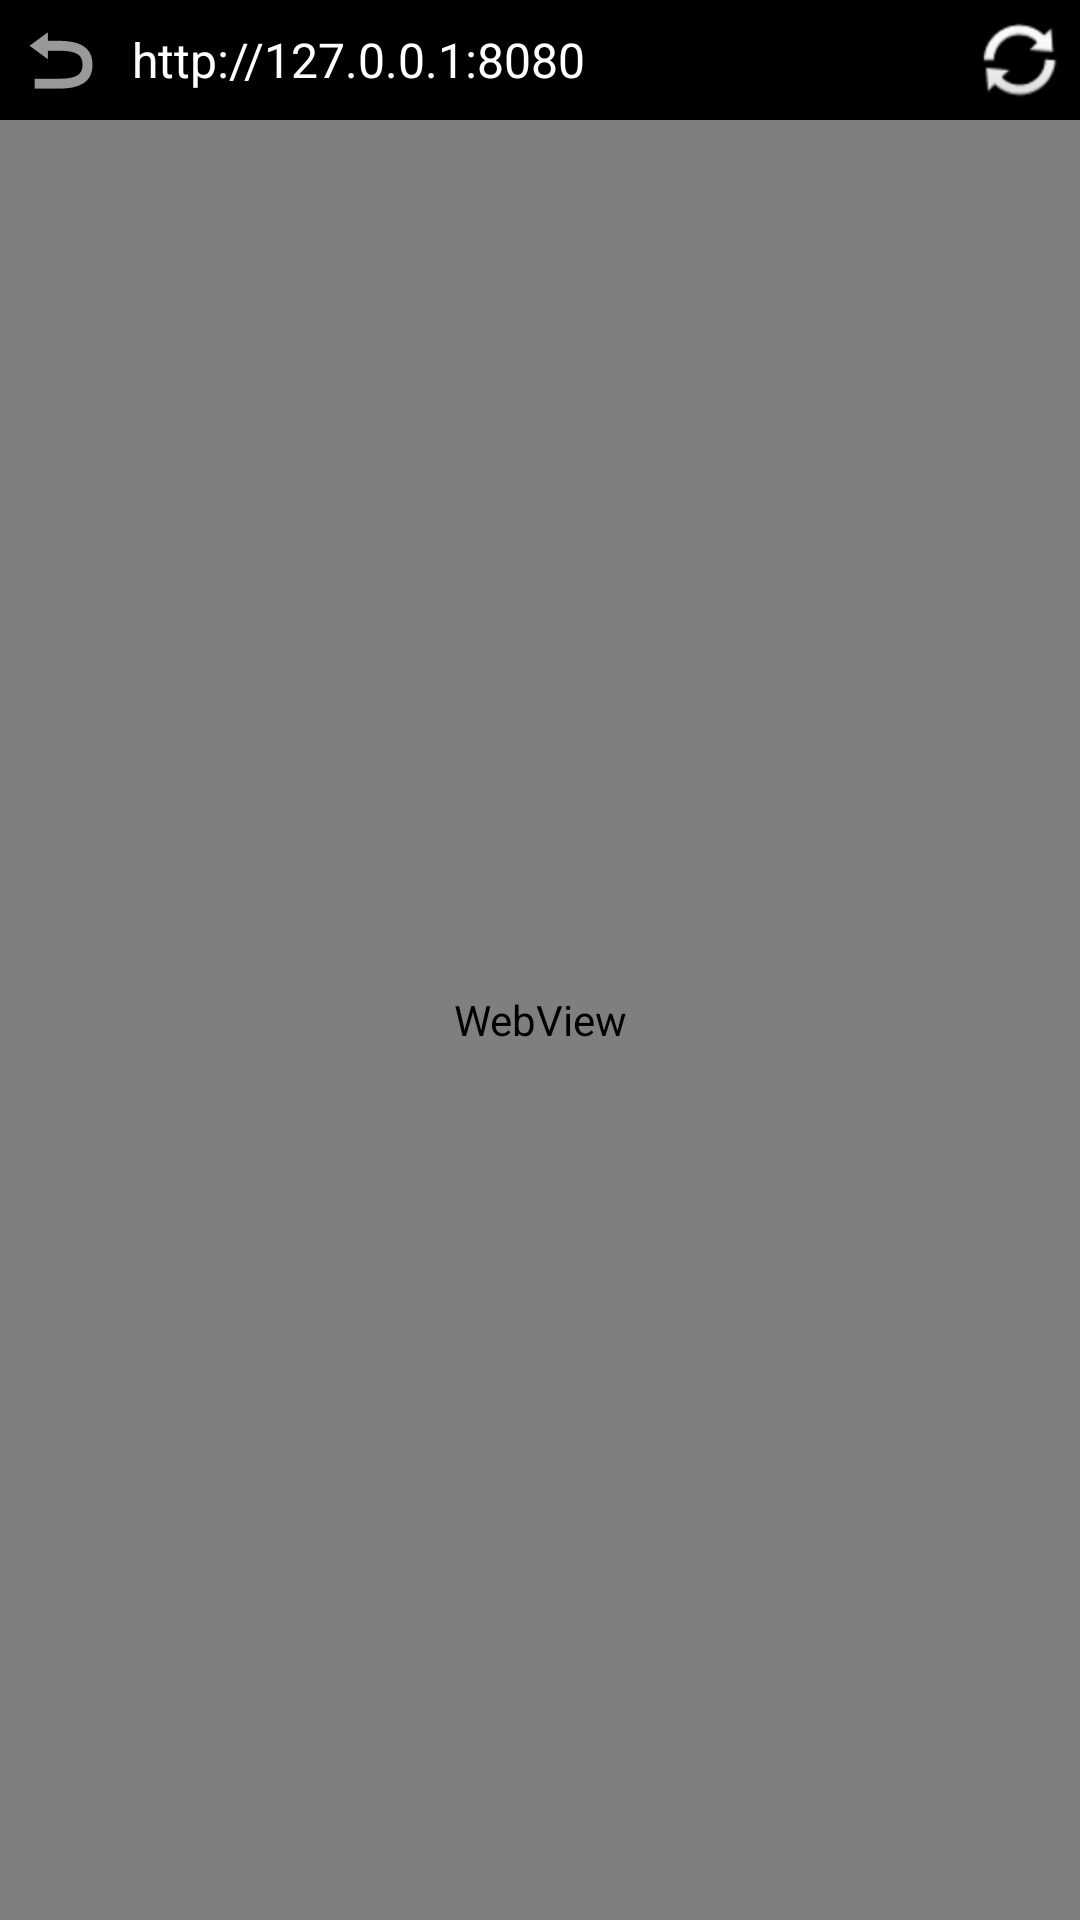

Icon bounding boxes for this 1080 x 1920 phone screenshot, format [left=x1, top=y1, right=x2, bottom=y2]:
刷新: [left=983, top=24, right=1057, bottom=96]
返回: [left=30, top=32, right=93, bottom=89]
